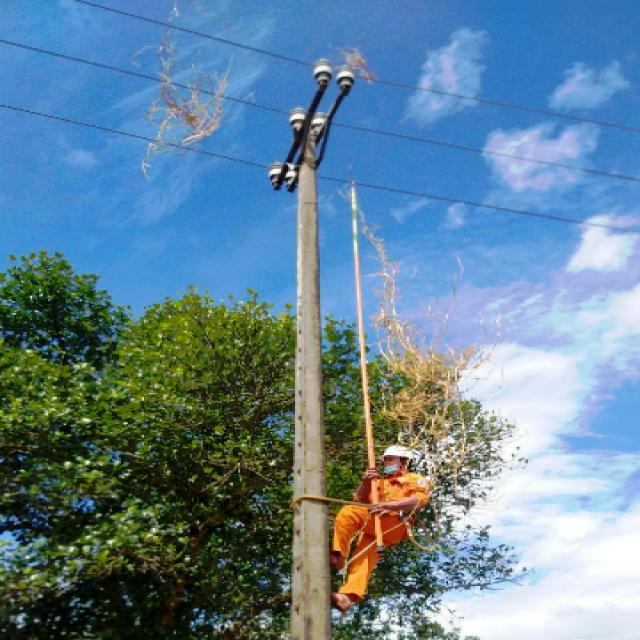obstruction: (117, 32, 251, 195), (333, 41, 381, 88)
poles: (268, 61, 356, 613)
wires: (324, 173, 638, 238), (338, 121, 637, 184), (69, 1, 312, 69), (394, 80, 635, 138), (3, 39, 157, 88), (3, 100, 147, 141), (184, 147, 273, 170), (240, 98, 295, 118)
